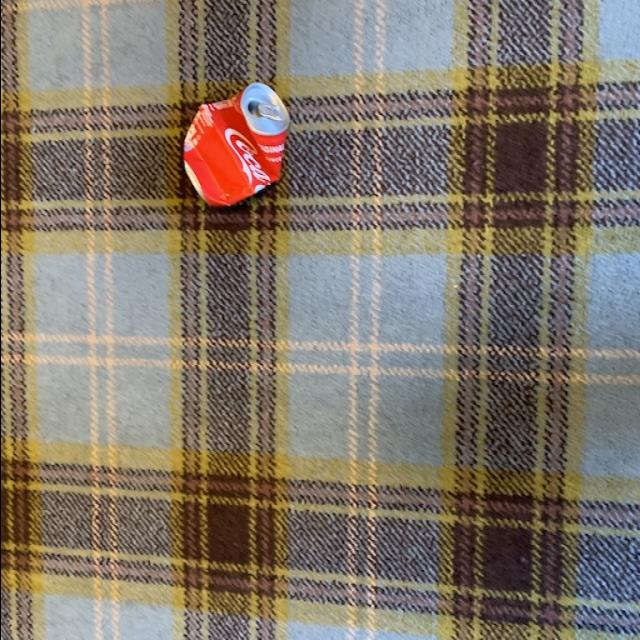Aluminum Can: (172, 76, 290, 214)
